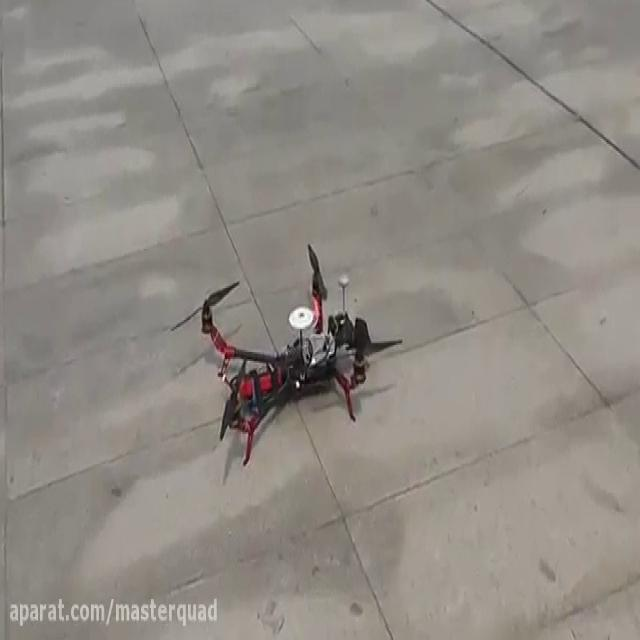drone: (170, 240, 404, 468)
